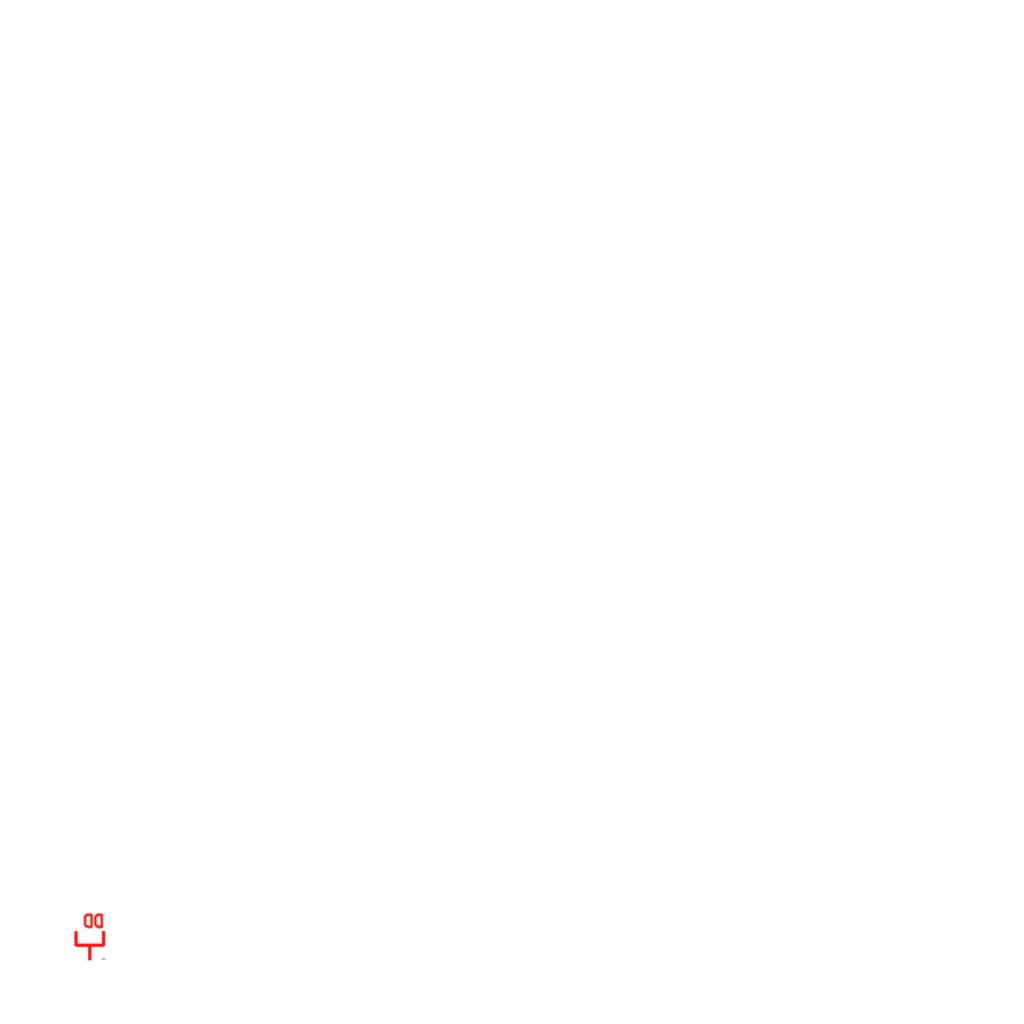Datenanschluss_zweifach: (72, 911, 106, 962)
